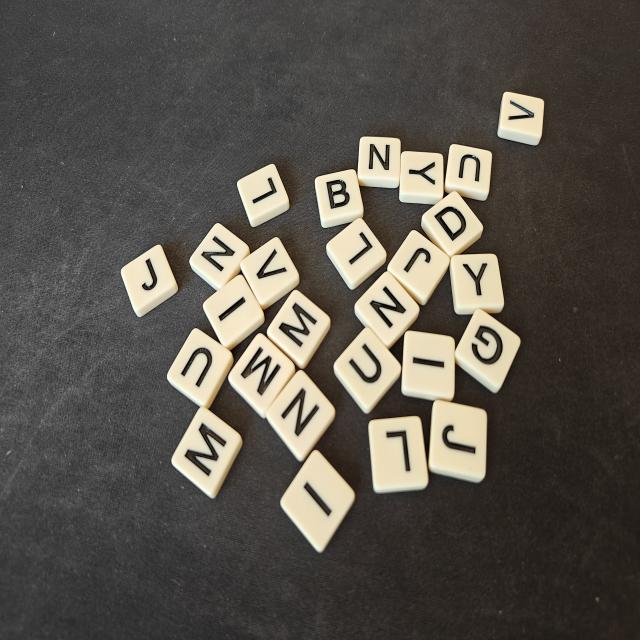b: (315, 169, 364, 228)
d: (421, 191, 483, 257)
g: (455, 309, 520, 393)
i: (280, 450, 355, 552), (203, 275, 265, 349), (401, 330, 455, 401)
j: (429, 400, 487, 482), (388, 230, 450, 305), (121, 244, 178, 317)
l: (368, 416, 428, 493), (326, 218, 386, 290), (237, 164, 289, 226)
m: (172, 407, 242, 498), (229, 333, 295, 418), (267, 290, 330, 369)
n: (267, 370, 335, 462), (354, 271, 419, 348), (190, 223, 250, 290), (357, 136, 401, 188)
u: (334, 328, 401, 414), (167, 328, 233, 408), (444, 144, 492, 200)
v: (241, 237, 299, 309), (497, 92, 544, 145)
y: (450, 254, 504, 315), (399, 151, 444, 204)
